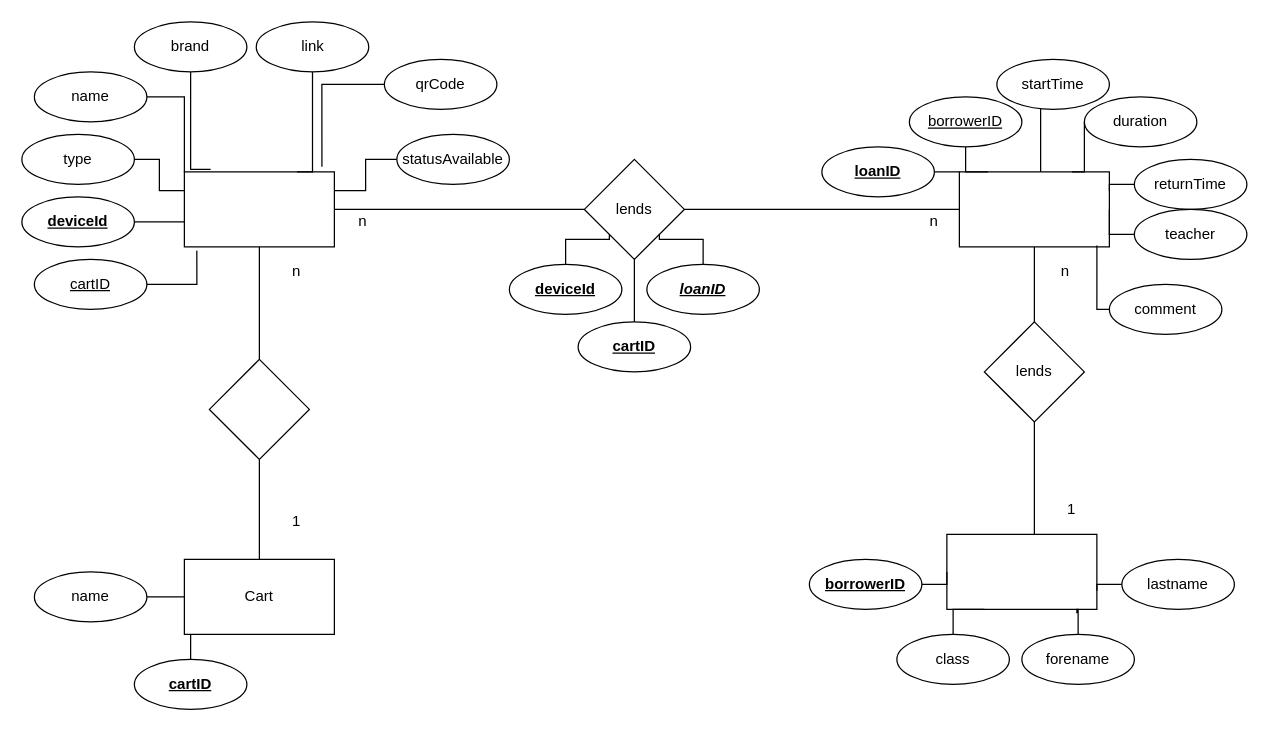
Some shapes in this 1269 by 731 pixel diagram are drawn without their labels. Here are the shapes that lost their labels. From the top down, the centre of each, then its label:
the point at 258,209: Device
the point at 1033,209: Loan
the point at 258,408: contains
the point at 1021,571: Borrower
